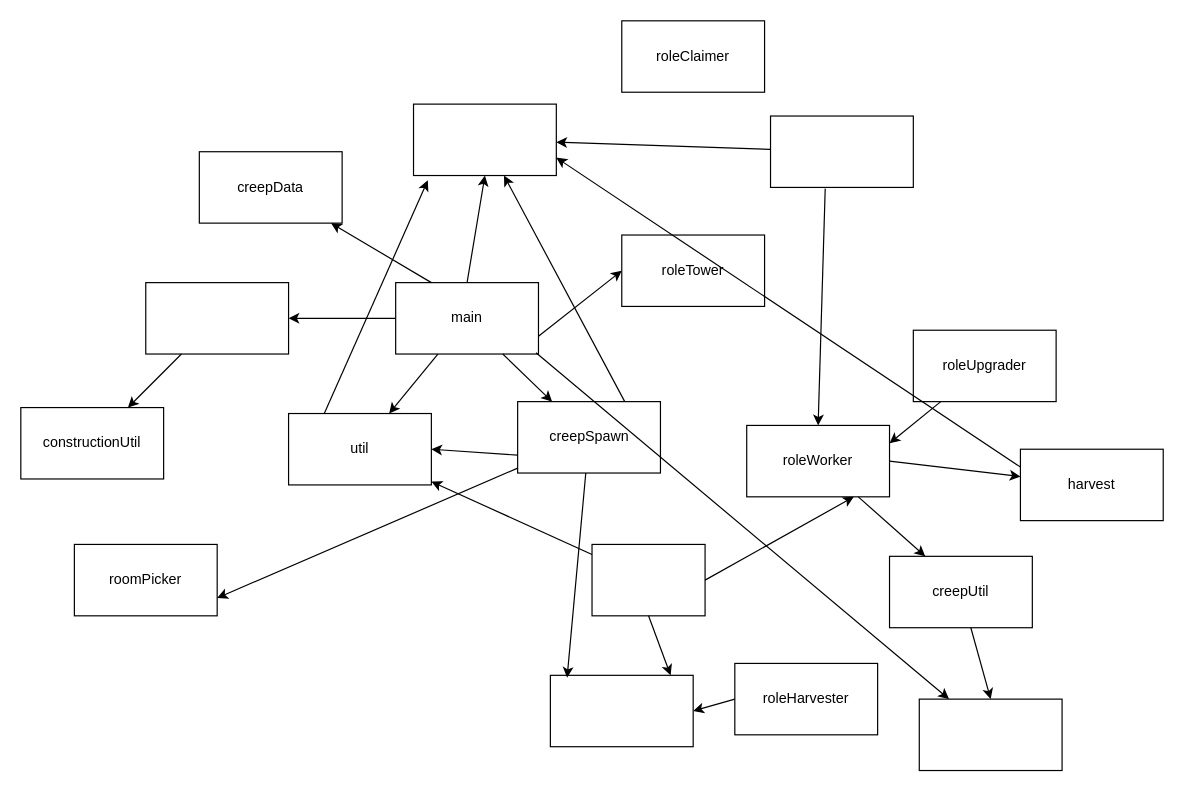
Some shapes in this 1184 by 791 pixel diagram are drawn without their labels. Each missing label, with the centre of its shape:
"constructionDecider" goes at point 217,317.
"data" goes at point 484,139.
"mapUtil" goes at point 990,734.
"roleBuilder" goes at point 648,579.
"roleHauler" goes at point 841,151.
"roles" goes at point 621,710.
